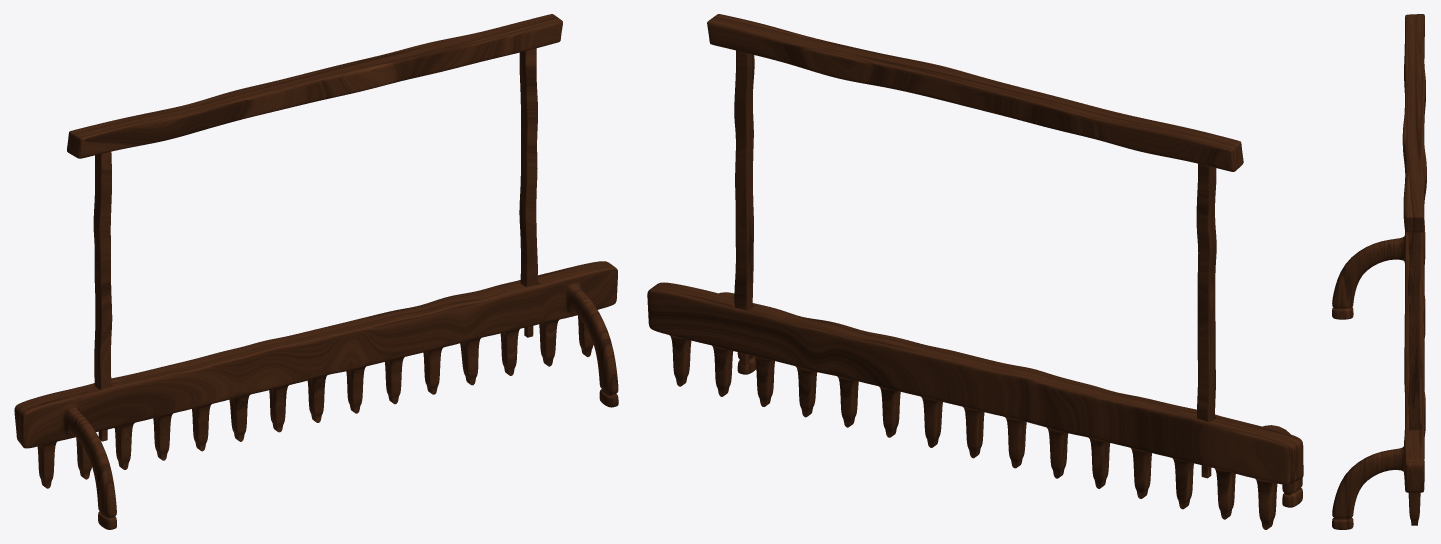
Rendered from Suyod.fbx.
3 renders of one model, left to right at view 1: azimuth 30°, elevation 25°; view 2: azimuth 150°, elevation 25°; view 3: azimuth 270°, elevation 25°, orthographic. The views are drawn at different scales.
Parts seen in each view (by area): view 1: Suyod.001; view 2: Suyod.001; view 3: Suyod.001.
Boxes of the visible parts, x1,y1,x2,y2 form: Suyod.001: [14, 14, 618, 529]; Suyod.001: [647, 14, 1303, 529]; Suyod.001: [1332, 14, 1426, 529].
Bounding box in the file's own units: 441 × 254 × 70.78.
1 material, 1 textured.
